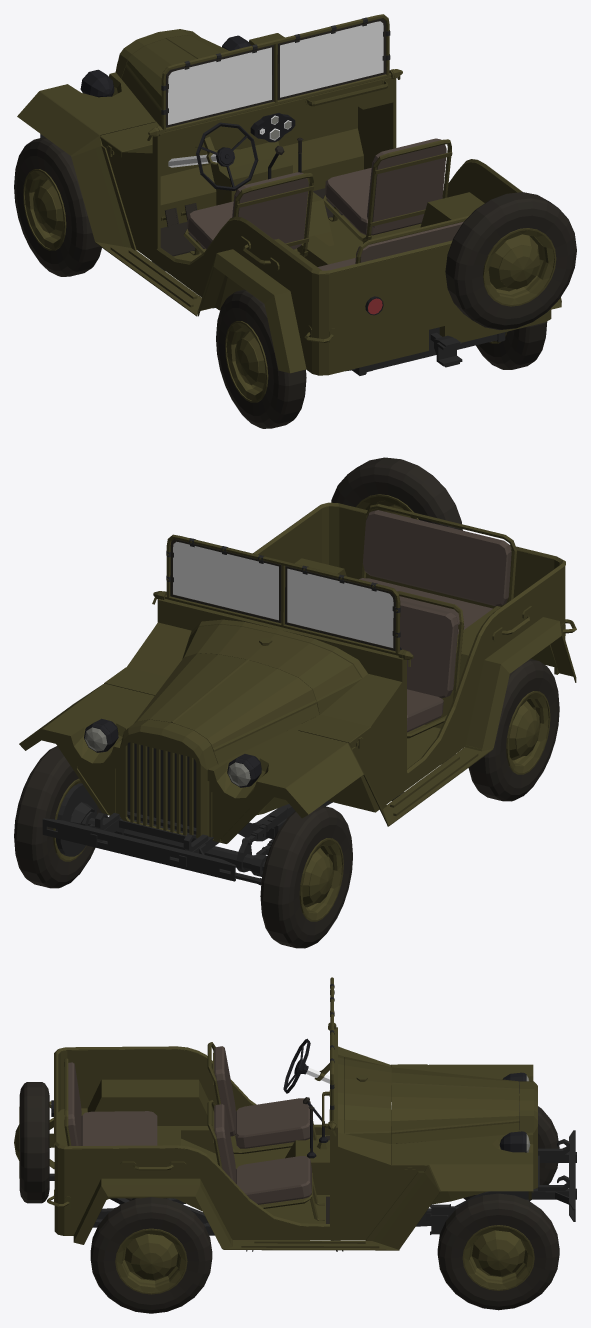
Rendered from GAZ_67_.glb.
3 views of the same model, one above another, from view 1: azimuth 30°, elevation 25°; view 2: azimuth 150°, elevation 25°; view 3: azimuth 270°, elevation 25° (orthographic). The views are drawn at different scales.
Visible parts, largest first — view 1: GAZ-67b BODY, details, wheel FL, wheel RL, wheel RR, frame, steer wheel; view 2: GAZ-67b BODY, wheel FL, wheel RL, wheel FR, frame, details; view 3: GAZ-67b BODY, wheel RR, wheel FR, details, frame, wheel FL, steer wheel.
Boxes of the visible parts, x1,y1,x2,y2 form: GAZ-67b BODY: [17, 14, 561, 375]; details: [161, 79, 576, 329]; wheel FL: [14, 137, 101, 276]; wheel RL: [216, 289, 306, 428]; wheel RR: [476, 321, 547, 369]; frame: [152, 261, 508, 375]; steer wheel: [196, 122, 258, 190]; GAZ-67b BODY: [19, 502, 576, 881]; wheel FL: [260, 805, 352, 948]; wheel RL: [468, 659, 559, 801]; wheel FR: [14, 746, 101, 888]; frame: [55, 754, 455, 885]; details: [331, 457, 462, 530]; GAZ-67b BODY: [47, 977, 575, 1250]; wheel RR: [90, 1197, 212, 1313]; wheel FR: [437, 1193, 559, 1310]; details: [14, 1063, 391, 1203]; frame: [49, 1147, 576, 1251]; wheel FL: [463, 1102, 559, 1201]; steer wheel: [283, 1038, 310, 1093].
Bounding box in the file's own units: 1.68 × 1.56 × 3.35.
